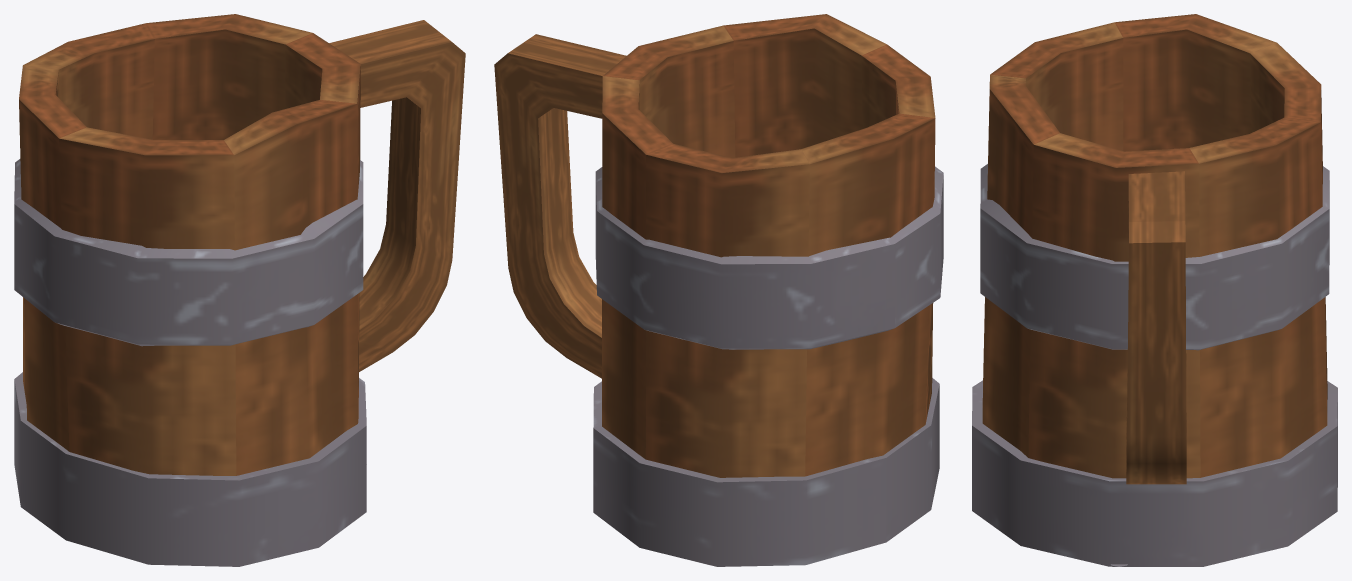
File: mug.glb
3 renders of one model, left to right at view 1: azimuth 30°, elevation 25°; view 2: azimuth 150°, elevation 25°; view 3: azimuth 270°, elevation 25°, orthographic. The views are drawn at different scales.
Visible parts, largest first — view 1: Mug; view 2: Mug; view 3: Mug.
Part boxes in pixels (bbox=[...]): Mug: bbox=[14, 14, 465, 566]; Mug: bbox=[494, 14, 943, 566]; Mug: bbox=[972, 14, 1337, 566].
Bounding box in the file's own units: 0.1921 × 0.1839 × 0.1468.
2 materials, 2 textured.
